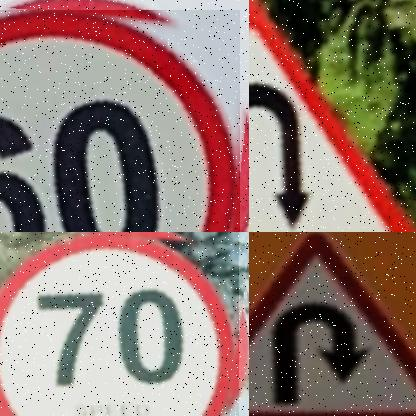Speed Limit -60 kmph-: (0, 11, 239, 232)
Speed Limit -70 kmph-: (0, 232, 238, 416)
U-Turn: (249, 0, 416, 232), (249, 232, 416, 416), (249, 232, 416, 416)
